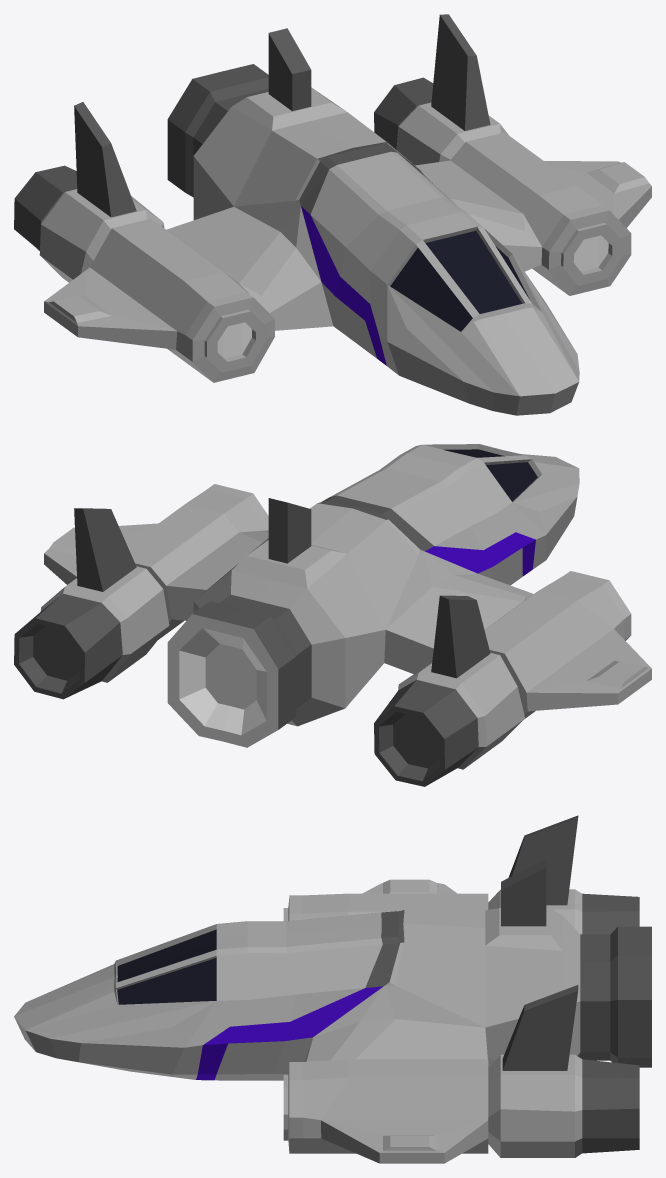
The model's file is SpaceShip.fbx.
3 views of the same model, one above another, from view 1: azimuth 30°, elevation 25°; view 2: azimuth 150°, elevation 25°; view 3: azimuth 270°, elevation 25° (orthographic). The views are drawn at different scales.
Visible parts, largest first — view 1: Plane; view 2: Plane; view 3: Plane.
Boxes of the visible parts, x1,y1,x2,y2 form: Plane: (14,14,651,415); Plane: (14,444,651,786); Plane: (14,815,651,1163).
Size of the model in its own units: 252 by 89.28 by 252.
